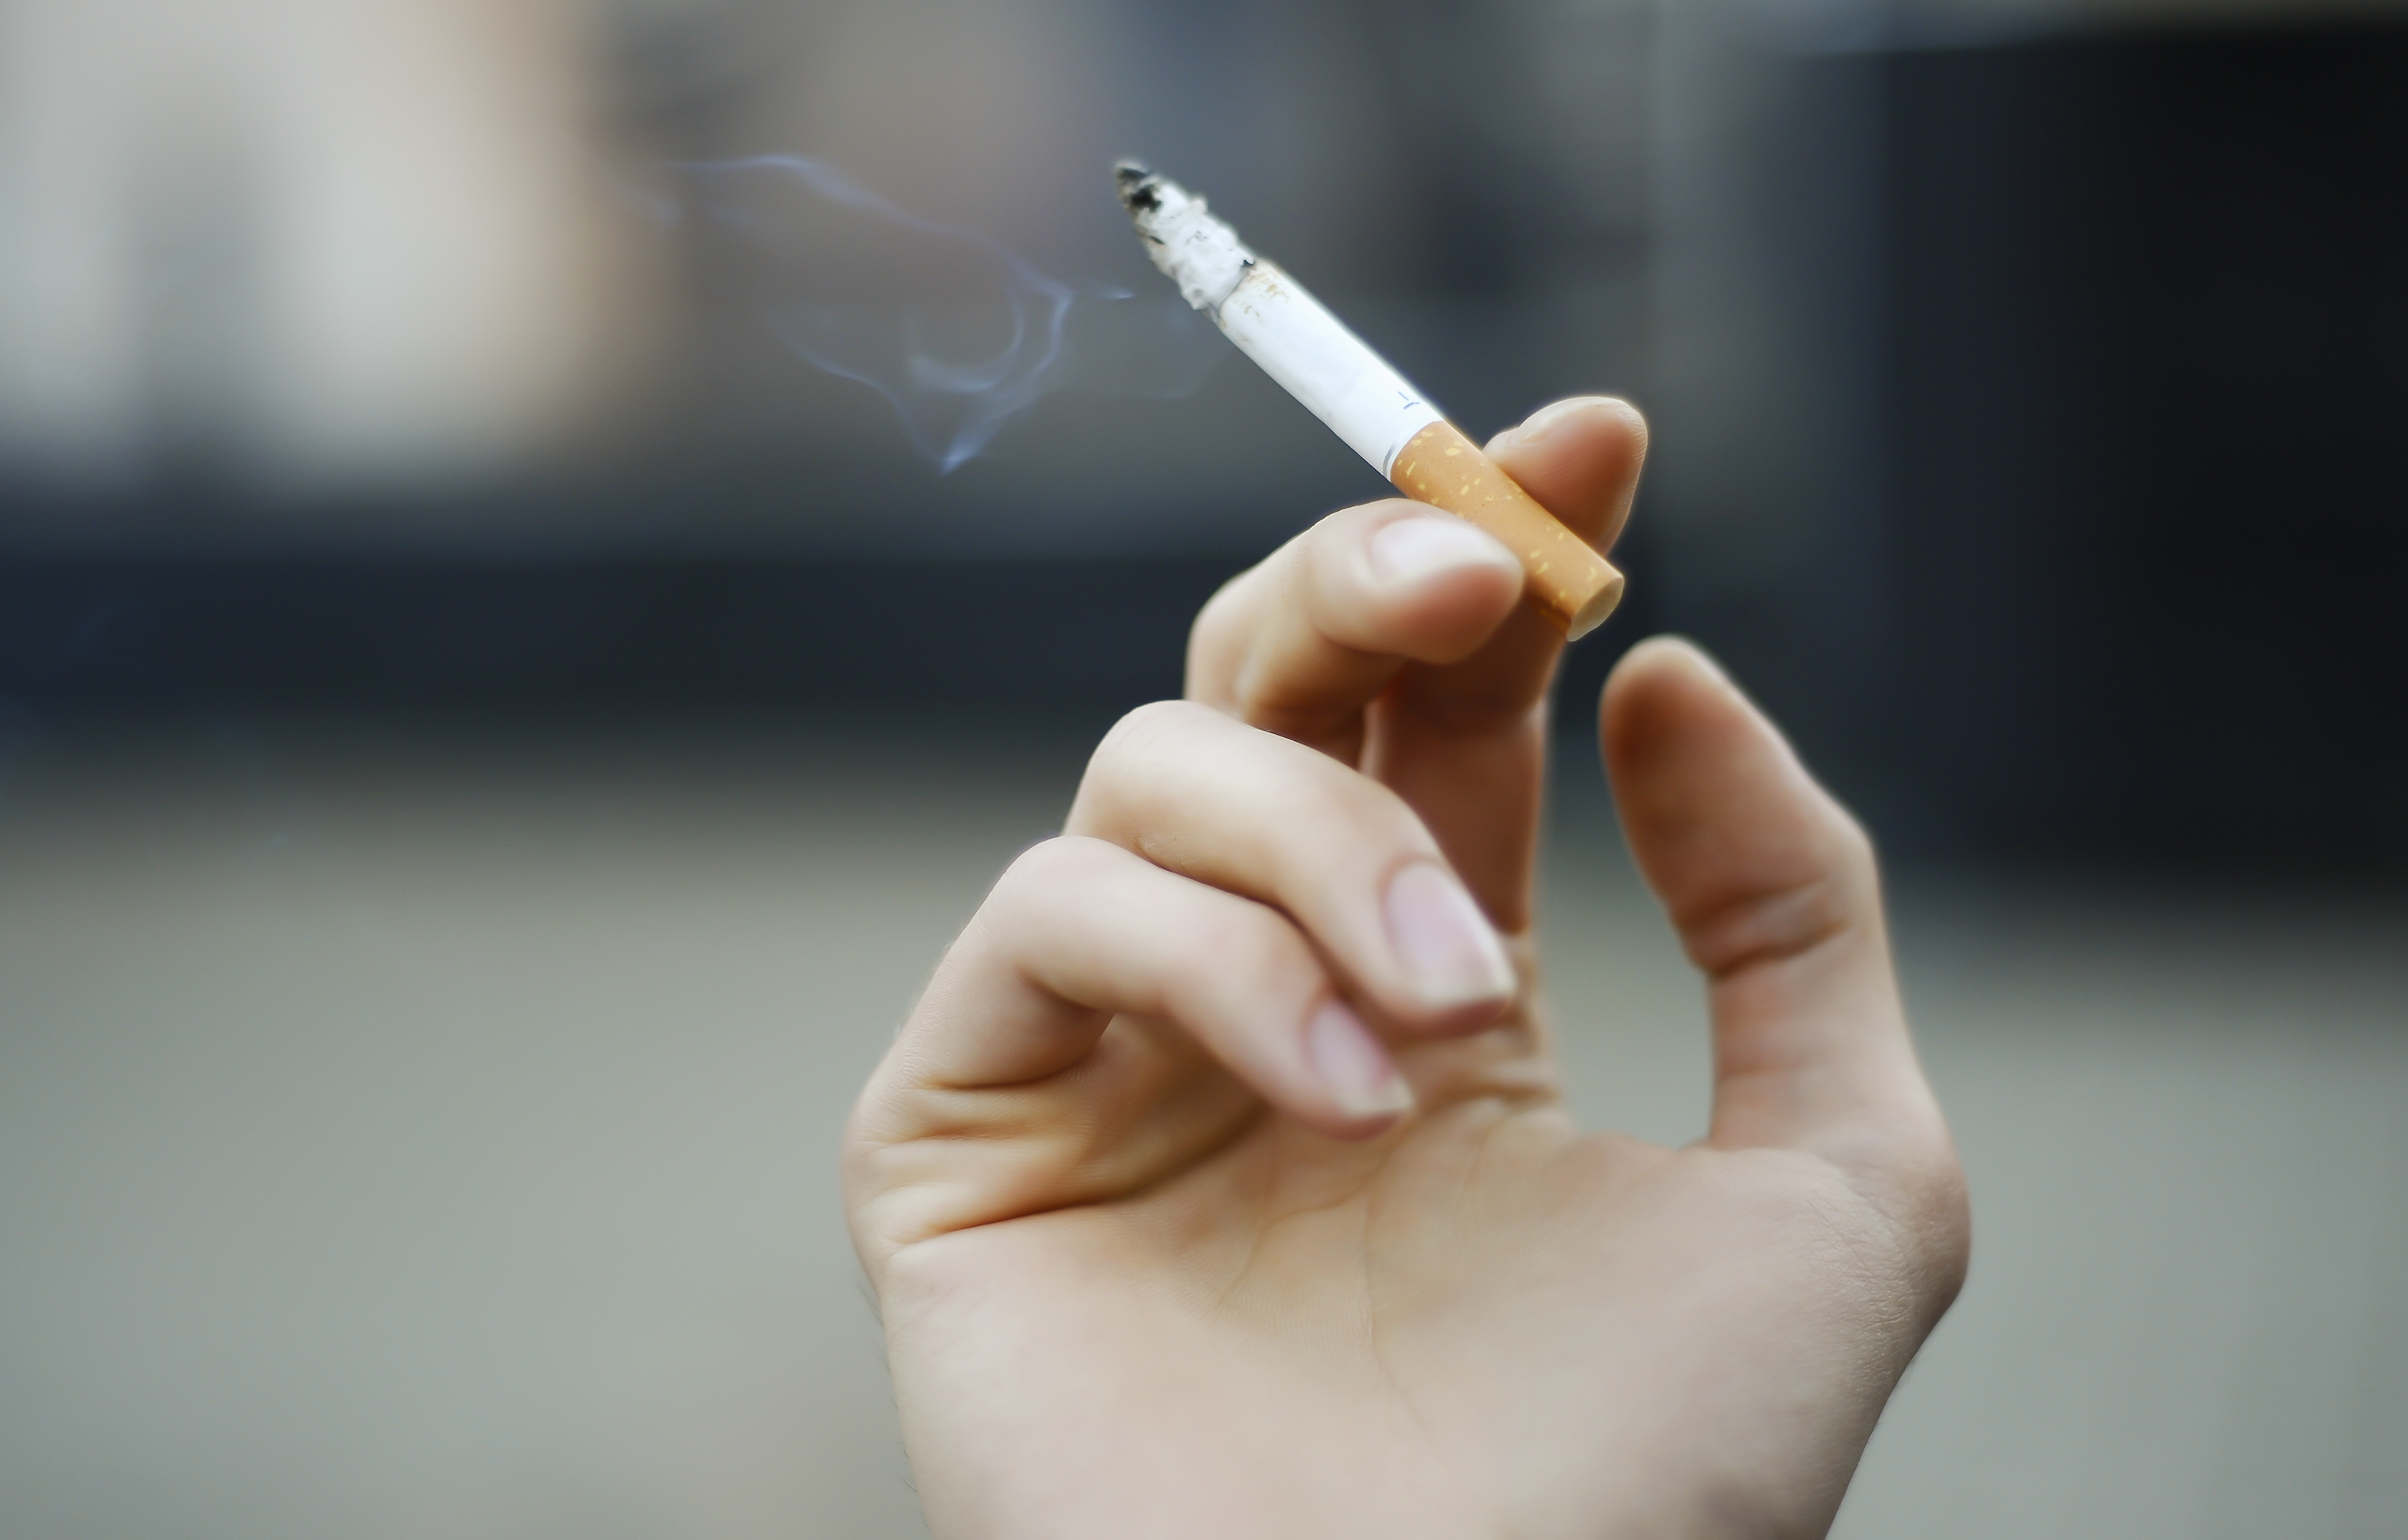cigarette: (1065, 121, 1680, 668)
